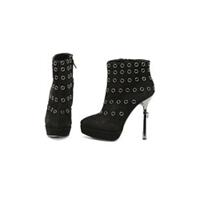shoe: (80, 57, 156, 140), (46, 52, 76, 141)
